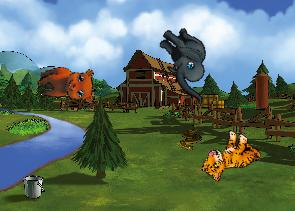bear: (34, 61, 98, 112)
elephant: (141, 20, 230, 105)
tiger: (197, 123, 265, 193)
